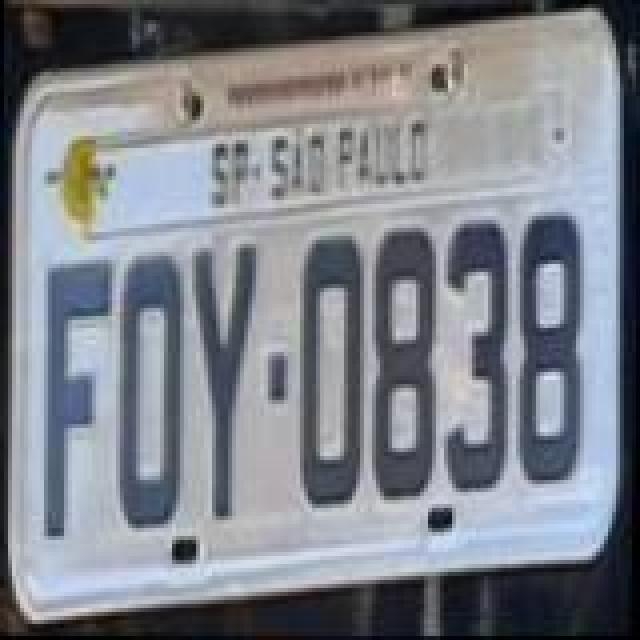3: (442, 214, 514, 498)
8: (512, 210, 588, 486), (370, 220, 442, 508)
F: (40, 254, 112, 546)
O: (112, 252, 184, 536), (298, 224, 370, 508)
Y: (184, 238, 256, 522)
